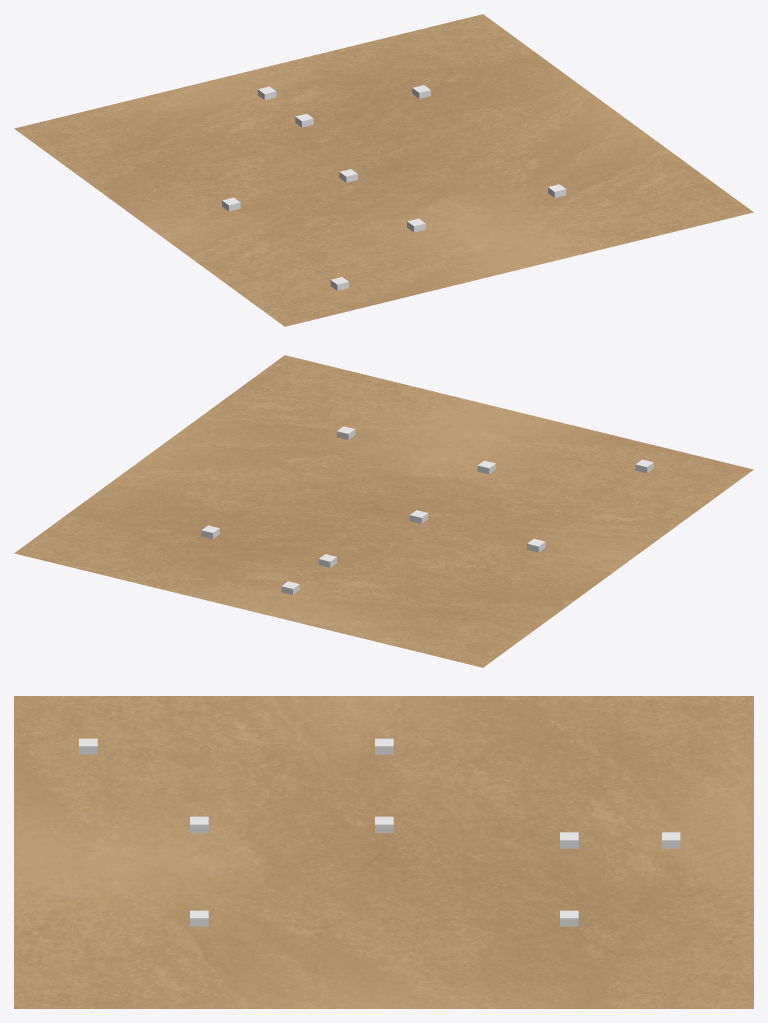
3 views of the same model, one above another, from view 1: azimuth 30°, elevation 25°; view 2: azimuth 150°, elevation 25°; view 3: azimuth 270°, elevation 25° (orthographic). The views are drawn at different scales.
Parts seen in each view (by area): view 1: Background_40x40; view 2: Background_40x40; view 3: Background_40x40.
Boxes of the visible parts, bbox=[...] form: Background_40x40: bbox=[14, 14, 753, 326]; Background_40x40: bbox=[14, 355, 753, 667]; Background_40x40: bbox=[14, 696, 753, 1008].
Size of what is drawn, in the model's own units: 40 by 1 by 40.
